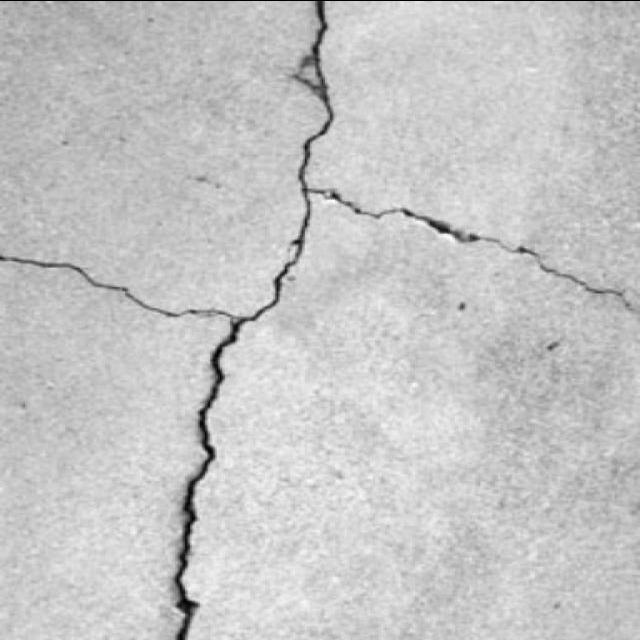SurfaceCrack: (5, 2, 350, 640), (305, 164, 640, 378)
